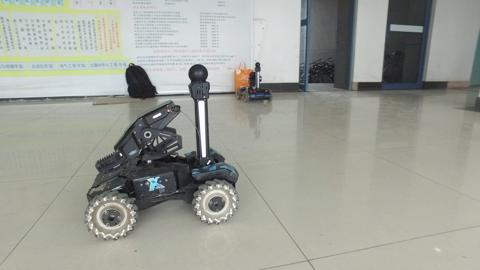bag: (116, 59, 162, 99)
chariot: (76, 62, 242, 245), (231, 54, 277, 106)
